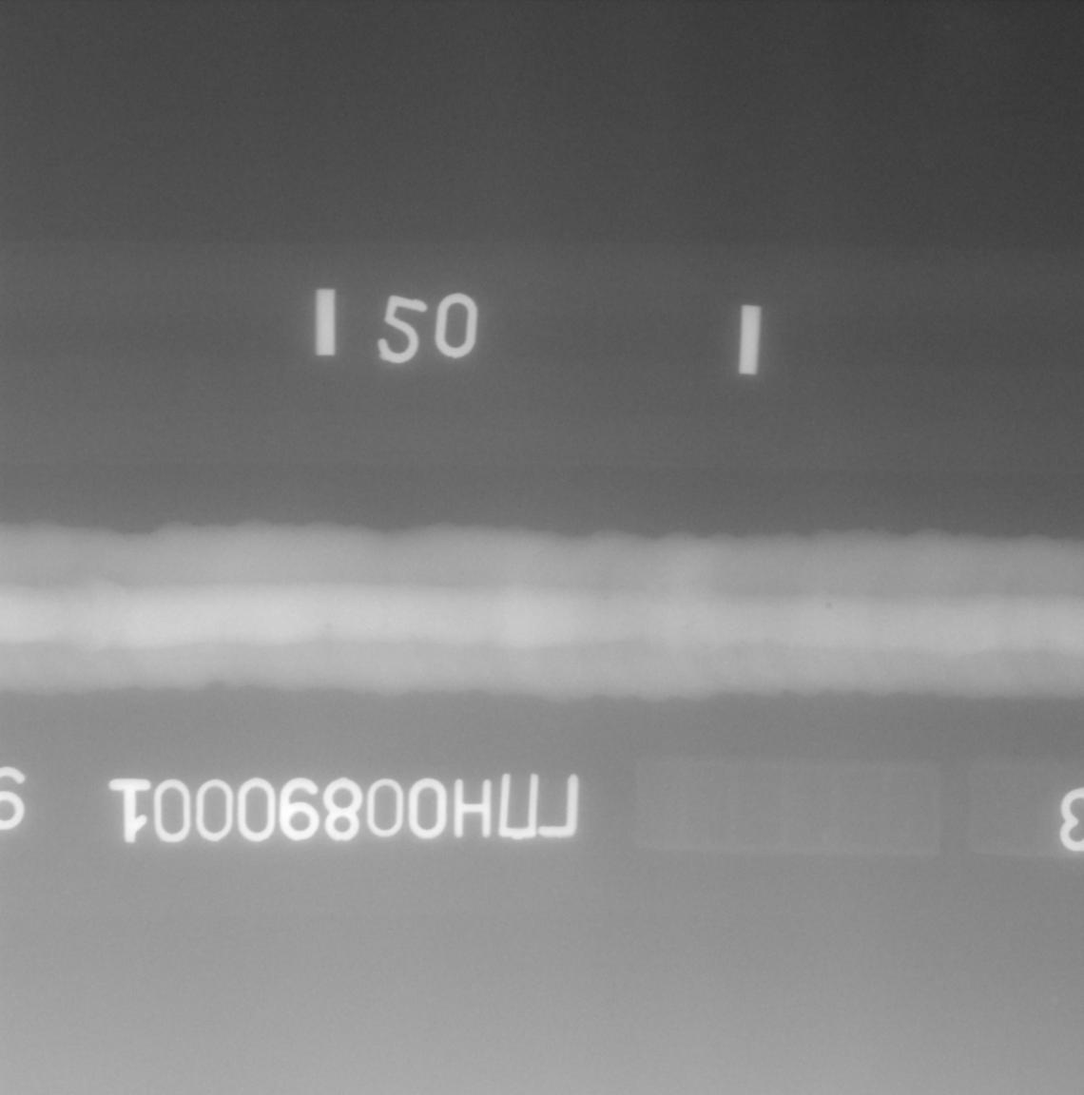Pore/Porosity: (326, 624, 333, 630), (826, 603, 832, 609), (604, 596, 609, 601), (647, 608, 650, 611)
